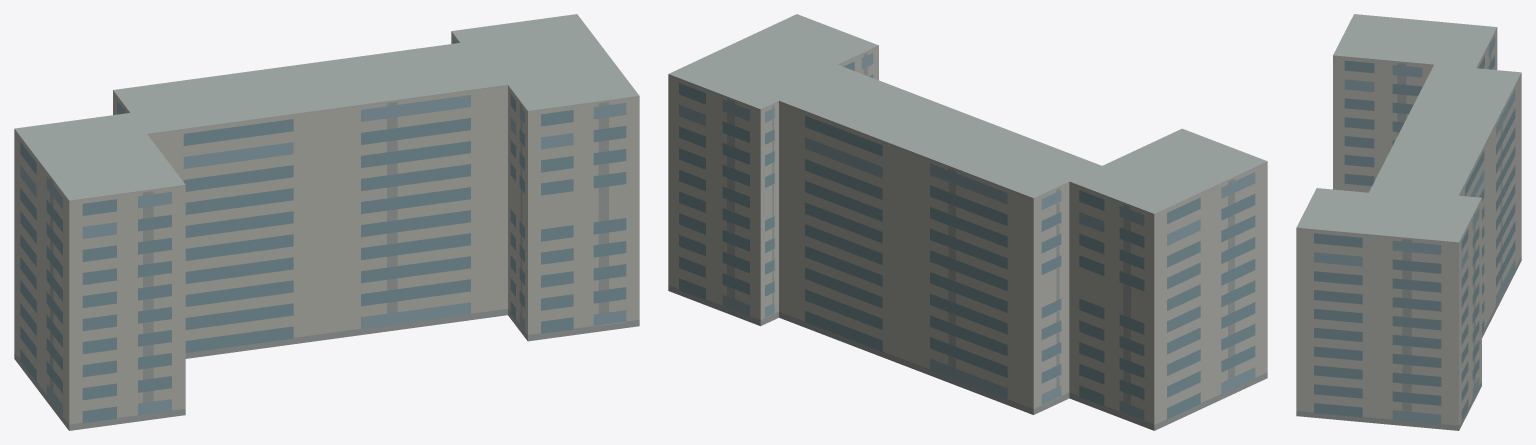
File: residential-a65c313d-f1a7-4bee-bb78-a53025dd3973.glb
The picture shows the model from 3 angles, left to right: view 1: azimuth 30°, elevation 25°; view 2: azimuth 150°, elevation 25°; view 3: azimuth 270°, elevation 25°; orthographic projection. The views are drawn at different scales.
Visible parts, largest first — view 1: residential-a65c313d-f1a7-4bee-bb78-a53025dd3973.tmp; view 2: residential-a65c313d-f1a7-4bee-bb78-a53025dd3973.tmp; view 3: residential-a65c313d-f1a7-4bee-bb78-a53025dd3973.tmp.
Part boxes in pixels (box(x1,y1,x2,y2)): residential-a65c313d-f1a7-4bee-bb78-a53025dd3973.tmp: box(14, 14, 639, 430); residential-a65c313d-f1a7-4bee-bb78-a53025dd3973.tmp: box(668, 14, 1267, 430); residential-a65c313d-f1a7-4bee-bb78-a53025dd3973.tmp: box(1296, 14, 1521, 430).
Bounding box in the file's own units: 70.19 × 27 × 29.24.
